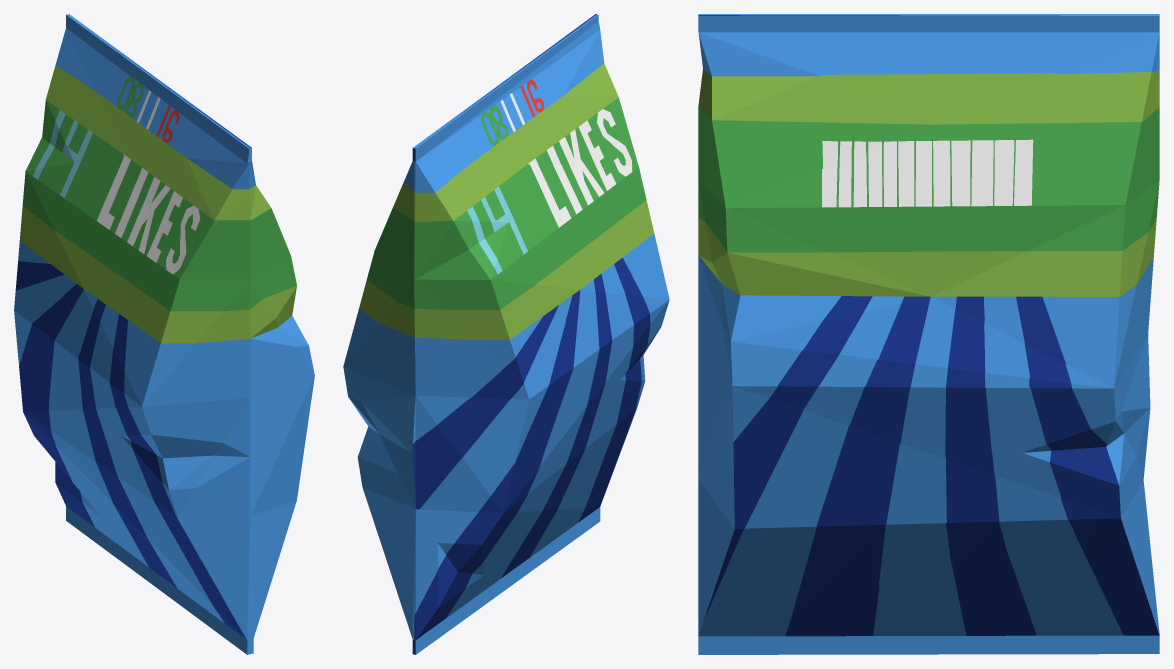
The model's file is chips2.fbx.
The picture shows the model from 3 angles, left to right: view 1: azimuth 30°, elevation 25°; view 2: azimuth 150°, elevation 25°; view 3: azimuth 270°, elevation 25°; orthographic projection. The views are drawn at different scales.
Visible parts, largest first — view 1: group478861069; view 2: group478861069; view 3: group478861069.
Part boxes in pixels (x1=…): group478861069: x1=14, y1=14, x2=314, y2=654; group478861069: x1=343, y1=14, x2=669, y2=654; group478861069: x1=698, y1=14, x2=1159, y2=654.
Bounding box in the file's own units: 146 × 393 × 257.
